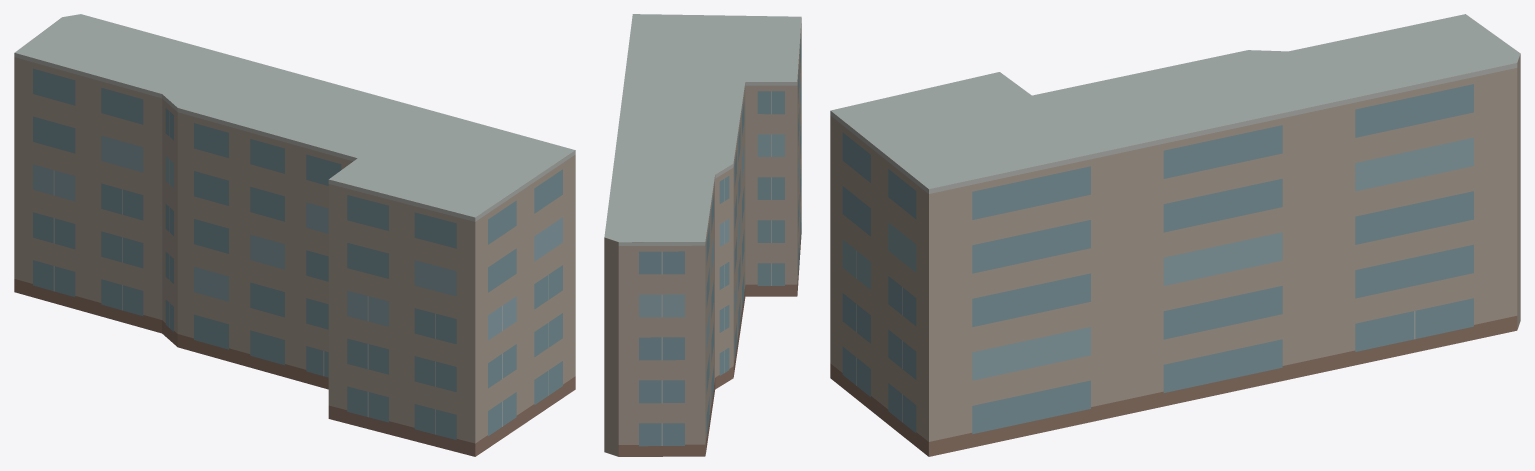
The model's file is survey-upis-32503852.glb.
The picture shows the model from 3 angles, left to right: view 1: azimuth 30°, elevation 25°; view 2: azimuth 150°, elevation 25°; view 3: azimuth 270°, elevation 25°; orthographic projection. The views are drawn at different scales.
Parts seen in each view (by area): view 1: survey-upis-32503852.tmp; view 2: survey-upis-32503852.tmp; view 3: survey-upis-32503852.tmp.
Boxes of the visible parts, x1,y1,x2,y2 form: survey-upis-32503852.tmp: (14, 14, 575, 456); survey-upis-32503852.tmp: (604, 14, 801, 456); survey-upis-32503852.tmp: (830, 14, 1520, 456).
Size of the model in its own units: 18.81 by 13.4 by 31.32.
